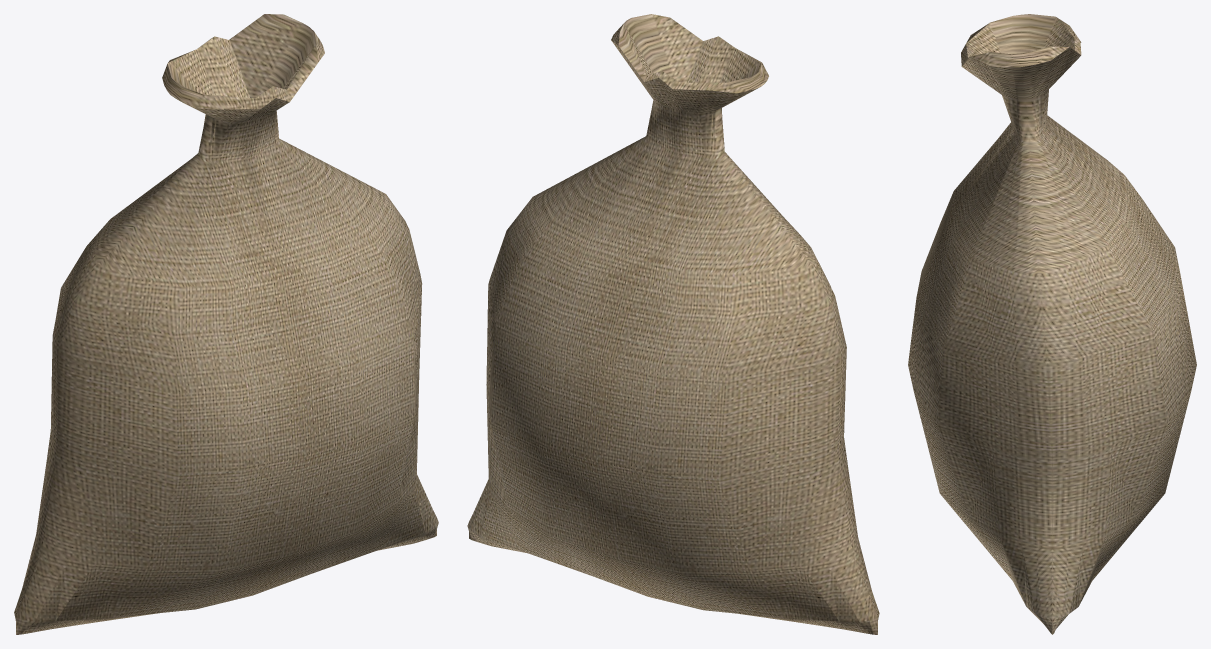
File: sack01_lod.fbx
3 renders of one model, left to right at view 1: azimuth 30°, elevation 25°; view 2: azimuth 150°, elevation 25°; view 3: azimuth 270°, elevation 25°, orthographic. The views are drawn at different scales.
Visible parts, largest first — view 1: Mesh Object; view 2: Mesh Object; view 3: Mesh Object.
Part boxes in pixels (x1,y1,x2,y2): Mesh Object: (14,14,438,634); Mesh Object: (467,14,879,634); Mesh Object: (908,14,1196,634).
Bounding box in the file's own units: 0.879 × 1.13 × 0.5636.
